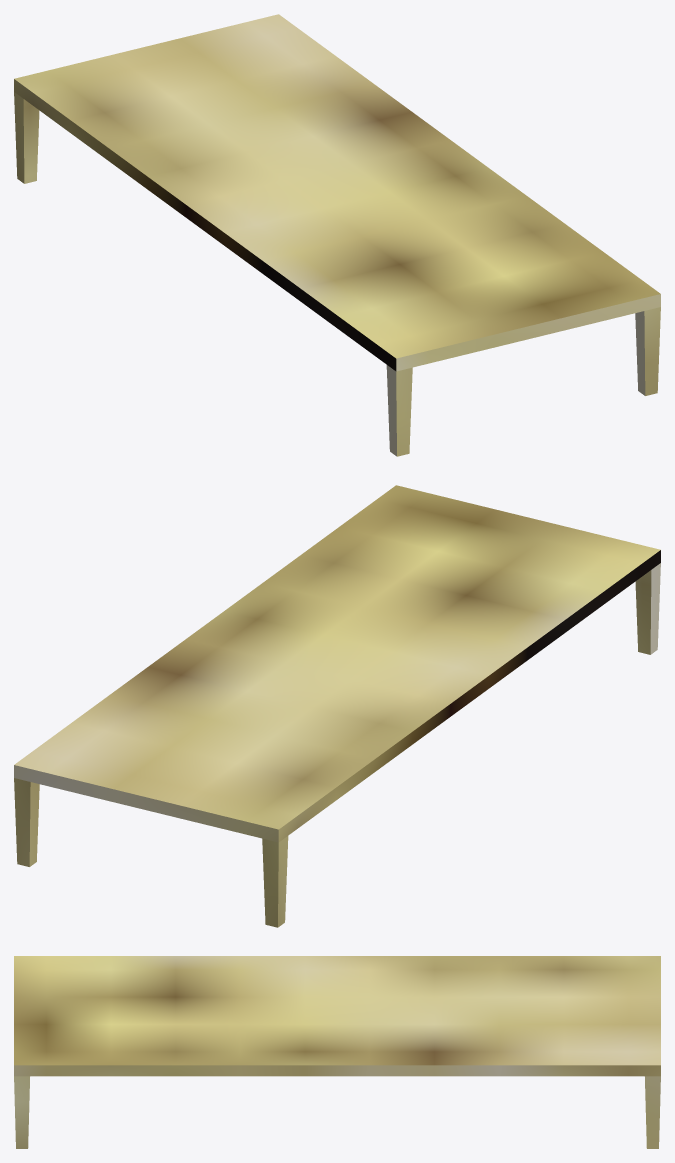
The model's file is table Large.fbx.
3 views of the same model, one above another, from view 1: azimuth 30°, elevation 25°; view 2: azimuth 150°, elevation 25°; view 3: azimuth 270°, elevation 25° (orthographic). The views are drawn at different scales.
Visible parts, largest first — view 1: cuboid; view 2: cuboid; view 3: cuboid.
Boxes of the visible parts, x1,y1,x2,y2 form: cuboid: (14, 14, 660, 456); cuboid: (14, 485, 660, 927); cuboid: (14, 956, 660, 1148).
Bounding box in the file's own units: 400 × 144 × 1000.
1 material, 1 textured.
